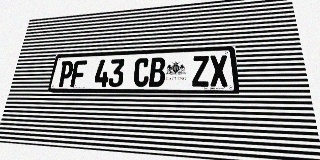3: (108, 59, 125, 87)
4: (94, 59, 111, 87)
B: (149, 57, 166, 87)
C: (133, 58, 150, 87)
F: (70, 60, 87, 87)
P: (57, 61, 74, 87)
X: (209, 55, 229, 87)
Z: (192, 55, 210, 87)
